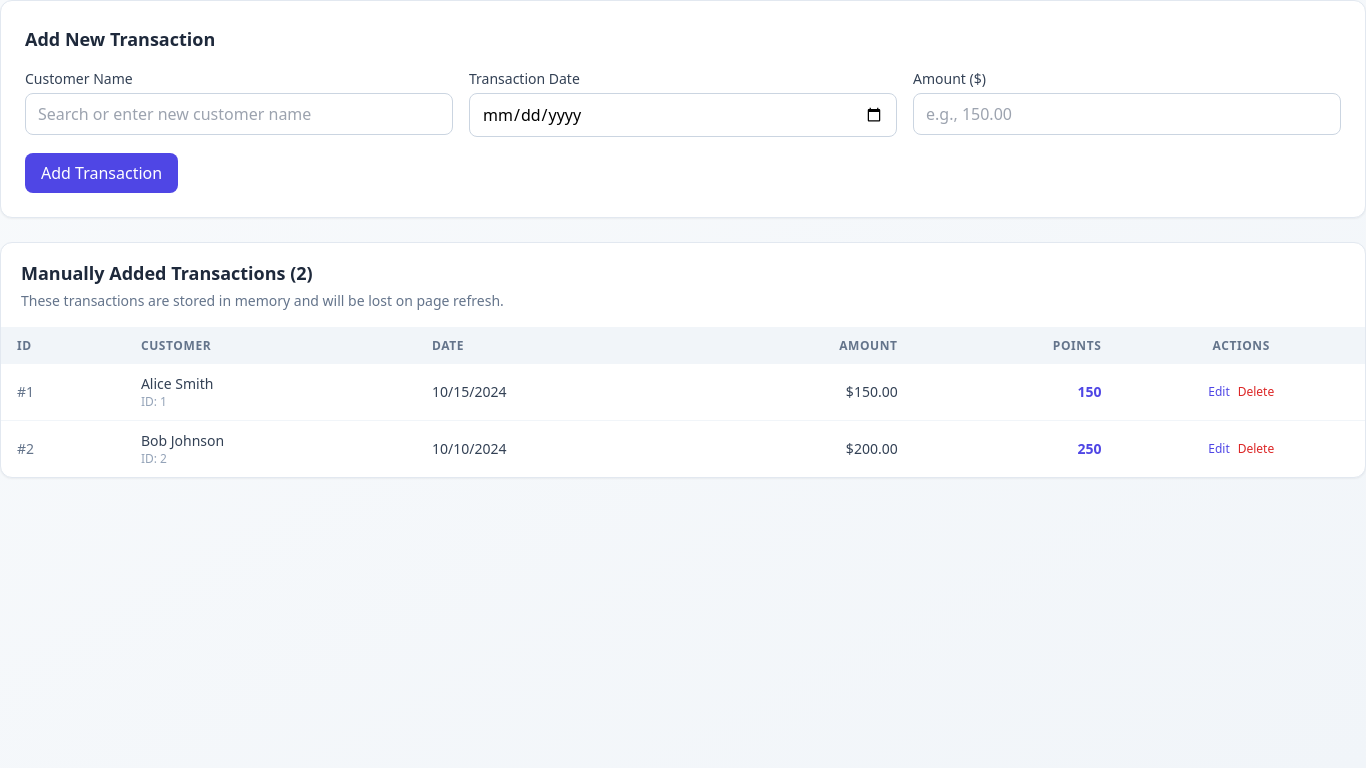
Test case: Admin › editing transactions › cancels edit mode when Cancel button is clicked
The image size is (1366, 768).
Click the button with aria-label "Edit transaction 1" at (1219, 392), box [1208, 384, 1230, 400]
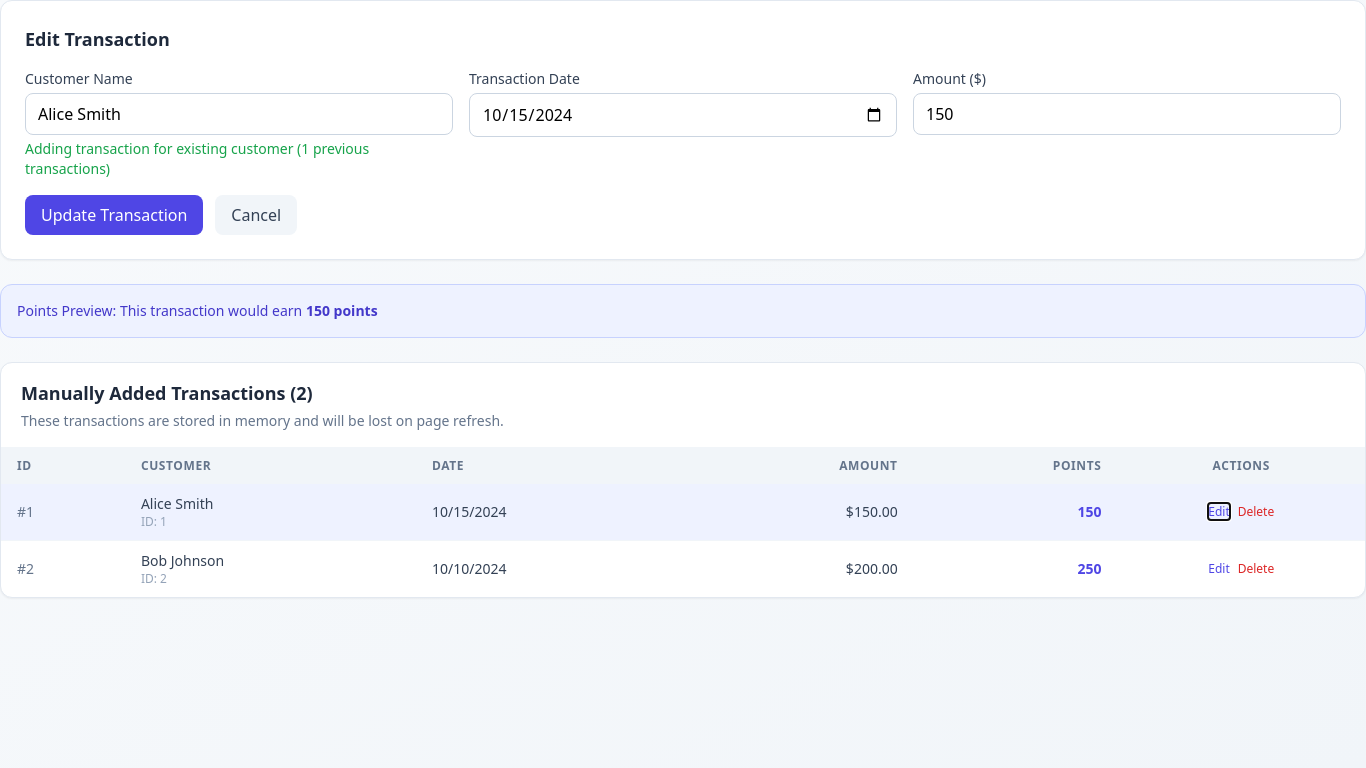
Check: the heading "Edit Transaction" is shown, box [25, 27, 170, 51]
Click the button "Cancel" at (256, 215), box [215, 195, 297, 235]
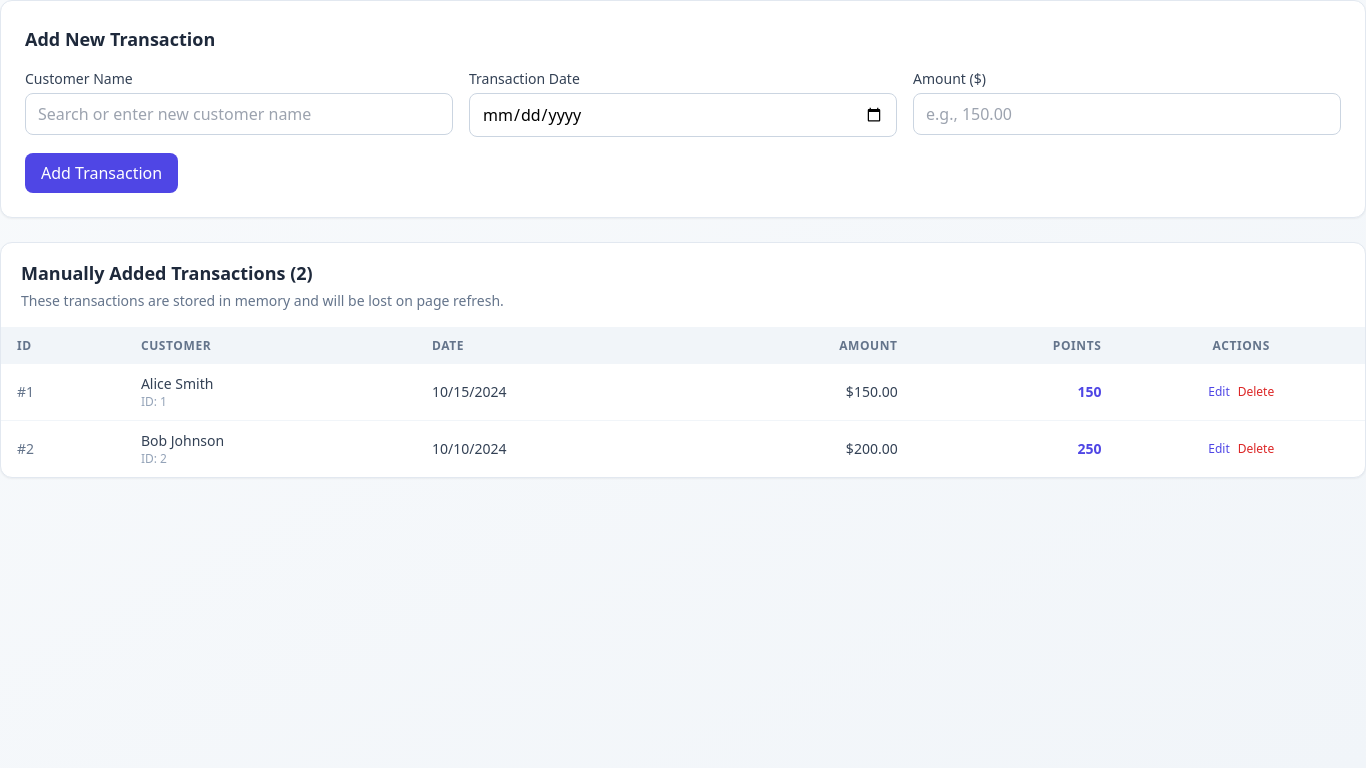
Check: the heading "Add New Transaction" is shown, box [25, 27, 215, 51]
Check: the dropdown labelled "Customer Name" is empty, box [25, 93, 453, 135]
